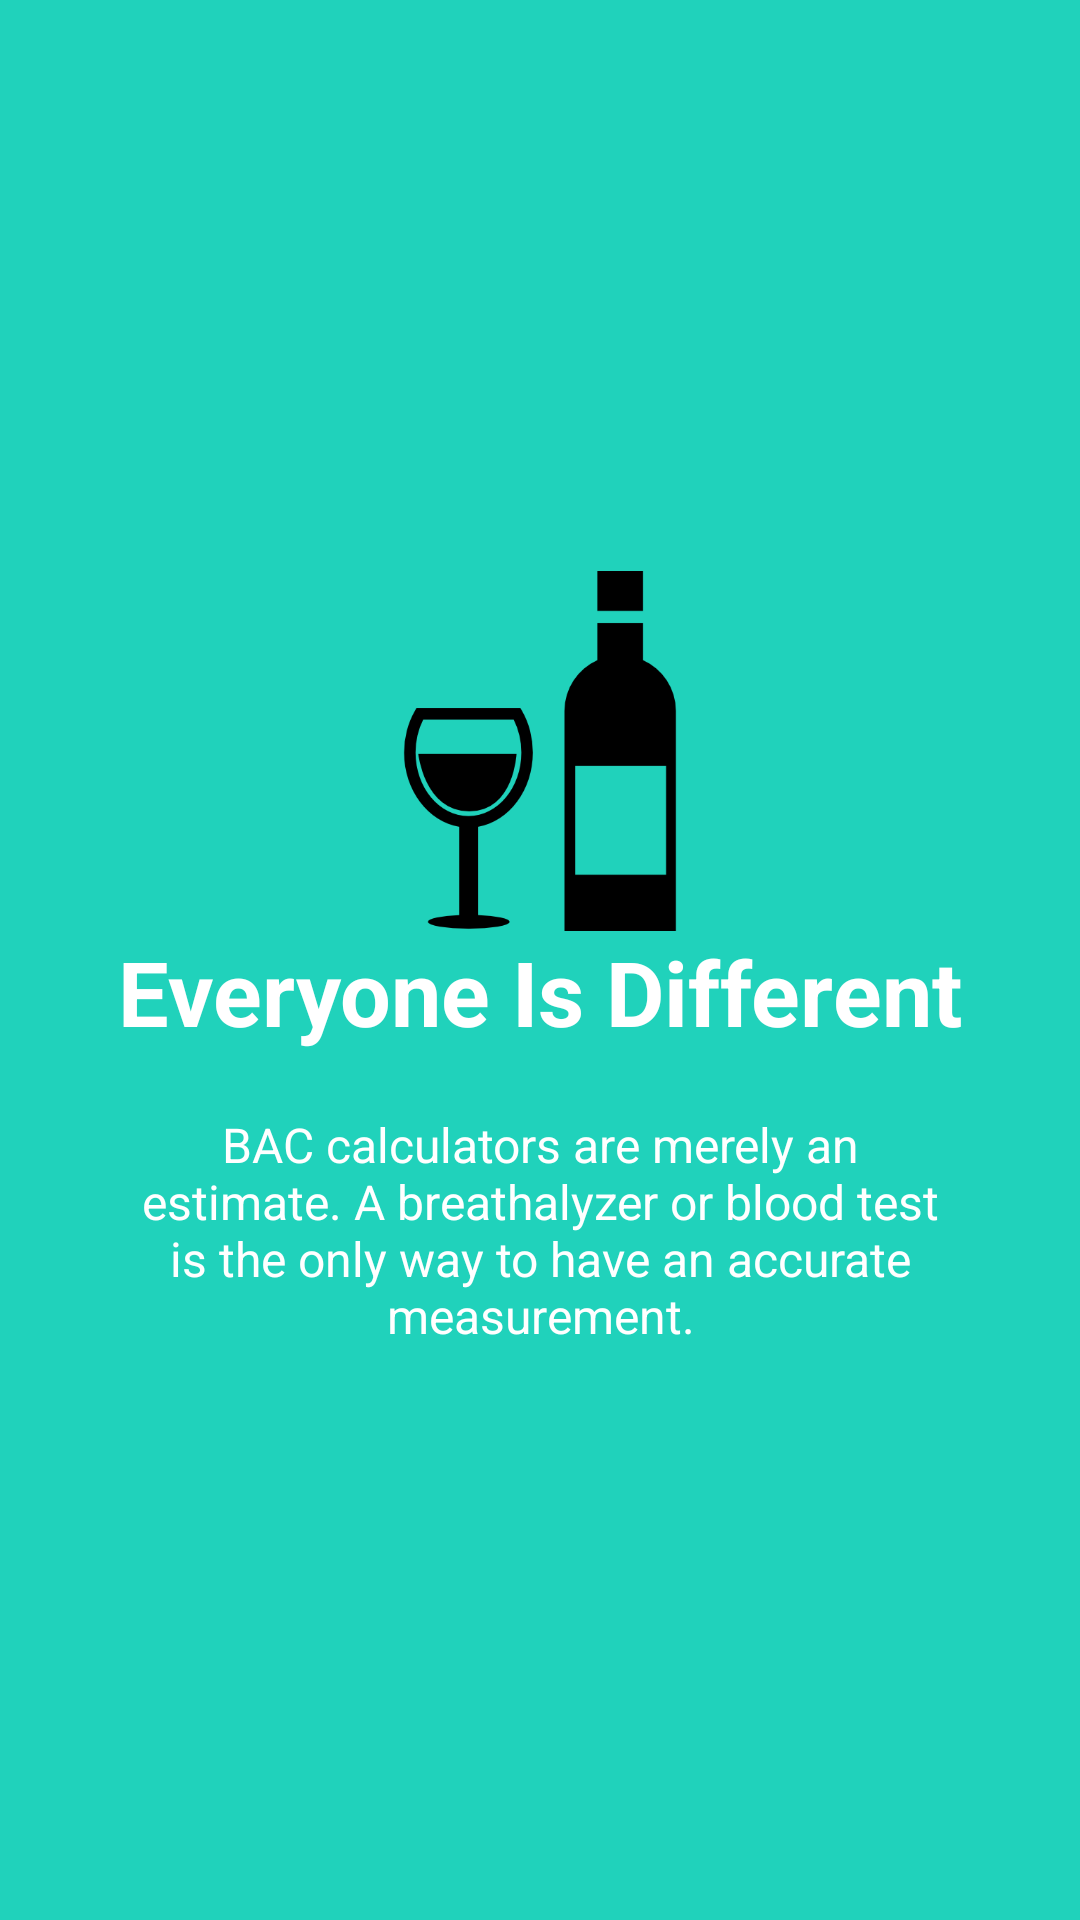

Icon bounding boxes for this 1080×1920 phone screenshot, format rect(x1, y1, x2, y2):
alkoholis2: rect(404, 571, 676, 931)
